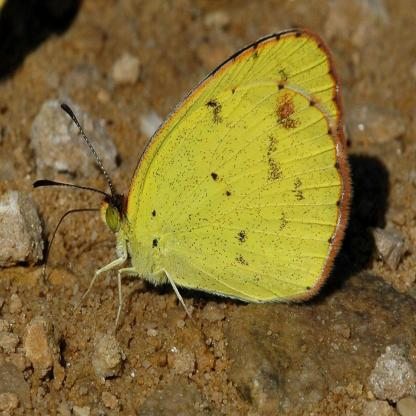other: (125, 22, 354, 310)
